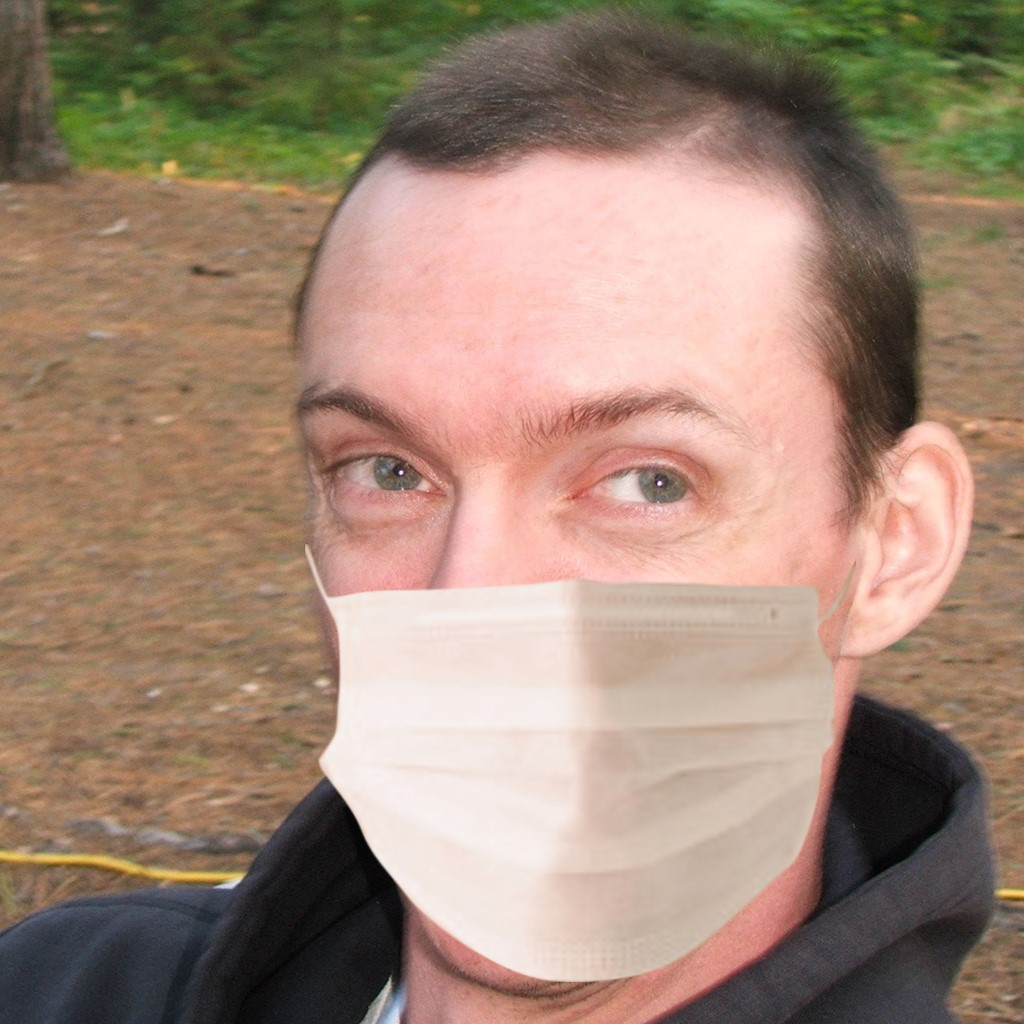con_mascara: (286, 80, 932, 964)
